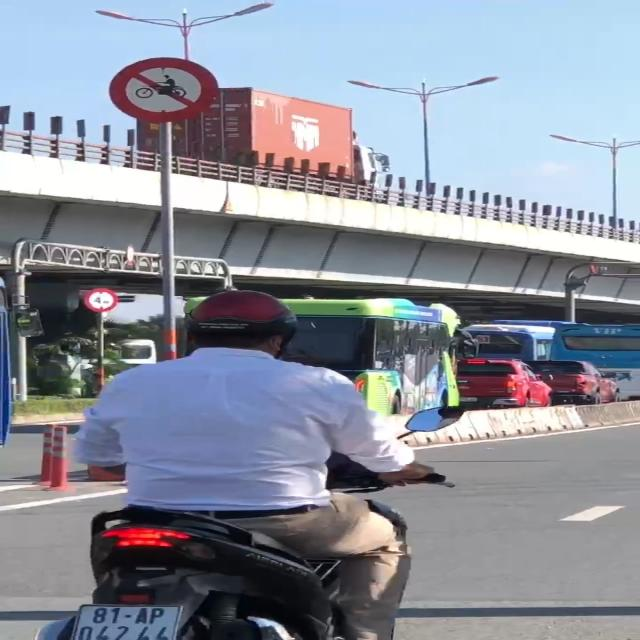Bien bao cam xe may: (101, 53, 213, 120)
